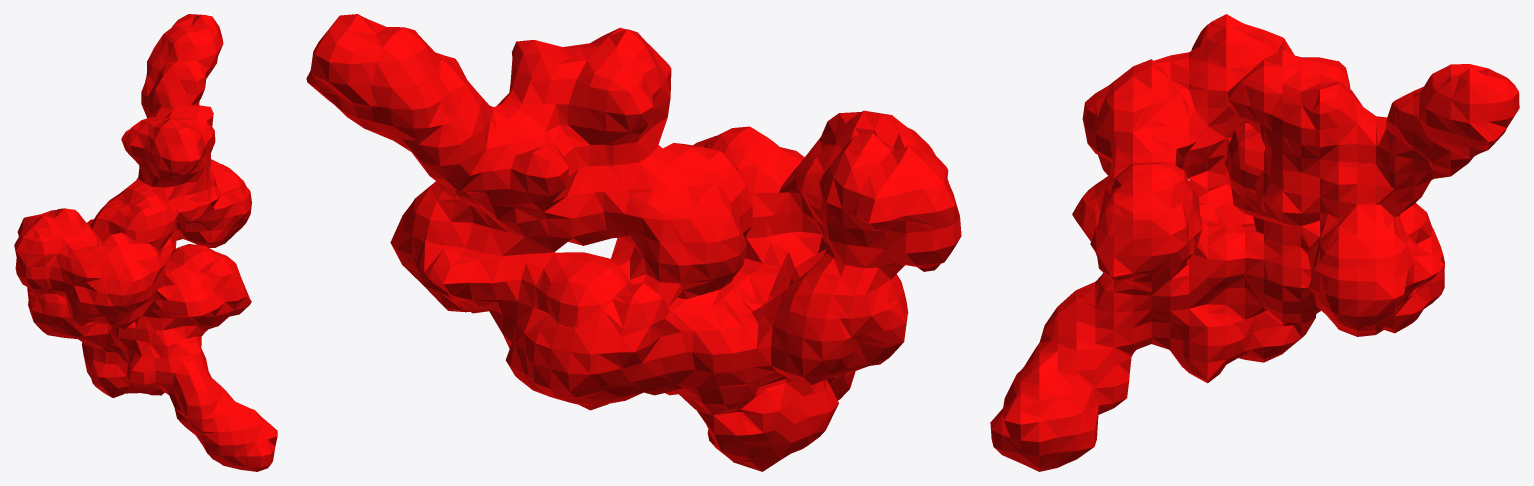
The model's file is Protein_disulfide_isomerase_A3_coarse.dae.
The picture shows the model from 3 angles, left to right: view 1: azimuth 30°, elevation 25°; view 2: azimuth 150°, elevation 25°; view 3: azimuth 270°, elevation 25°; orthographic projection. The views are drawn at different scales.
Visible parts, largest first — view 1: Protein_disulfide_isomerase_A3; view 2: Protein_disulfide_isomerase_A3; view 3: Protein_disulfide_isomerase_A3.
Part boxes in pixels (box(x1,y1,x2,y2)): Protein_disulfide_isomerase_A3: box(14, 14, 277, 471); Protein_disulfide_isomerase_A3: box(306, 14, 961, 471); Protein_disulfide_isomerase_A3: box(990, 14, 1519, 471).
Bounding box in the file's own units: 142 × 150 × 152.
